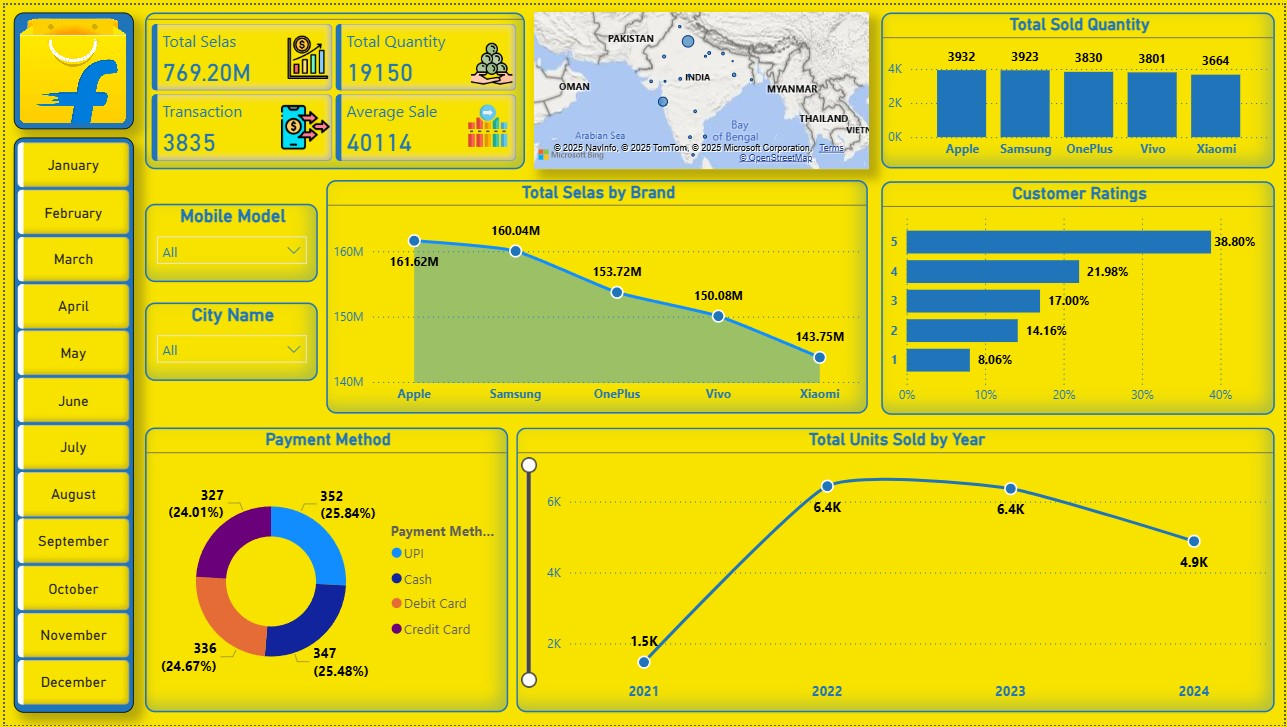

This screenshot's page, from the dashboard's own definition file:
{"tool":"powerbi","page":{"name":"Page 1","canvas":[1280,720],"ordinal":0},"visuals":[{"type":"shape","box":[8.6,7.1,120,117.1],"z":0},{"type":"shape","box":[8.8,132.5,120,575],"z":1000},{"type":"image","box":[7.9,7.1,120.7,117.1],"z":2000},{"type":"advancedSlicerVisual","fields":{"Values":["Sales Data.Date.Variation.Date Hierarchy.Month"]},"box":[12.3,133.1,112.5,575],"z":3000},{"type":"cardVisual","fields":{"Data":["Sales Data.Total Selas","Sales Data.Total Quantity","Sales Data.Transaction","Sales Data.Average"]},"box":[139.4,7.3,380.3,156.5],"z":4000},{"type":"map","fields":{"Category":["Sales Data.City"],"Size":["Sales Data.Total Quantity"]},"box":[528.3,7.3,335.1,156.5],"z":5000},{"type":"lineChart","title":"Total Units Sold by Year","fields":{"Category":["Sales Data.Date.Variation.Date Hierarchy.Year","Sales Data.Date.Variation.Date Hierarchy.Month","Sales Data.Date.Variation.Date Hierarchy.Day"],"Y":["Sales Data.Total Quantity"]},"box":[511.2,422.5,758.8,285],"z":6000},{"type":"clusteredColumnChart","title":"Total Sold Quantity","fields":{"Category":["Sales Data.Brand"],"Y":["Sales Data.Total Quantity"]},"box":[876.2,7.5,393.8,156.2],"z":7000},{"type":"donutChart","title":"Payment Method","fields":{"Y":["Sales Data.Transaction"],"Category":["Sales Data.Payment Method"]},"box":[139.4,423.1,363.2,284.9],"z":8000},{"type":"clusteredBarChart","title":"Customer Ratings","fields":{"Category":["Sales Data.Customer Ratings"],"Y":["Divide(CountNonNull(Sales Data.Transaction ID), ScopedEval(CountNonNull(Sales Data.Transaction ID), []))"]},"box":[876.8,176.1,393.8,233.6],"z":9000},{"type":"areaChart","fields":{"Category":["Sales Data.Brand"],"Y":["Sales Data.Total Selas"]},"box":[321.6,174.9,541.7,233.6],"z":10000},{"type":"slicer","title":"Mobile Model","fields":{"Values":["Sales Data.Mobile Model"]},"box":[140,199,172.9,78.2],"z":12000},{"type":"slicer","title":"City Name","fields":{"Values":["Sales Data.City"]},"box":[140,297.8,172.9,78.2],"z":14000}]}

Visuals, with their boxes in screenshot pixels (x1, y1, x2, y2), scaled from the page's 1280x720 canvas onto the 1287x727 screenshot:
shape: x1=9, y1=7, x2=129, y2=125
shape: x1=9, y1=134, x2=130, y2=714
image: x1=8, y1=7, x2=129, y2=125
advancedSlicerVisual - Sales Data.Date.Variation.Date Hierarchy.Month: x1=12, y1=134, x2=125, y2=715
cardVisual - Sales Data.Total Selas x Sales Data.Total Quantity: x1=140, y1=7, x2=523, y2=165
map - Sales Data.City x Sales Data.Total Quantity: x1=531, y1=7, x2=868, y2=165
"Total Units Sold by Year" lineChart: x1=514, y1=427, x2=1277, y2=714
"Total Sold Quantity" clusteredColumnChart: x1=881, y1=8, x2=1277, y2=165
"Payment Method" donutChart: x1=140, y1=427, x2=505, y2=715
"Customer Ratings" clusteredBarChart: x1=882, y1=178, x2=1278, y2=414
areaChart - Sales Data.Brand x Sales Data.Total Selas: x1=323, y1=177, x2=868, y2=412
"Mobile Model" slicer: x1=141, y1=201, x2=315, y2=280
"City Name" slicer: x1=141, y1=301, x2=315, y2=380
